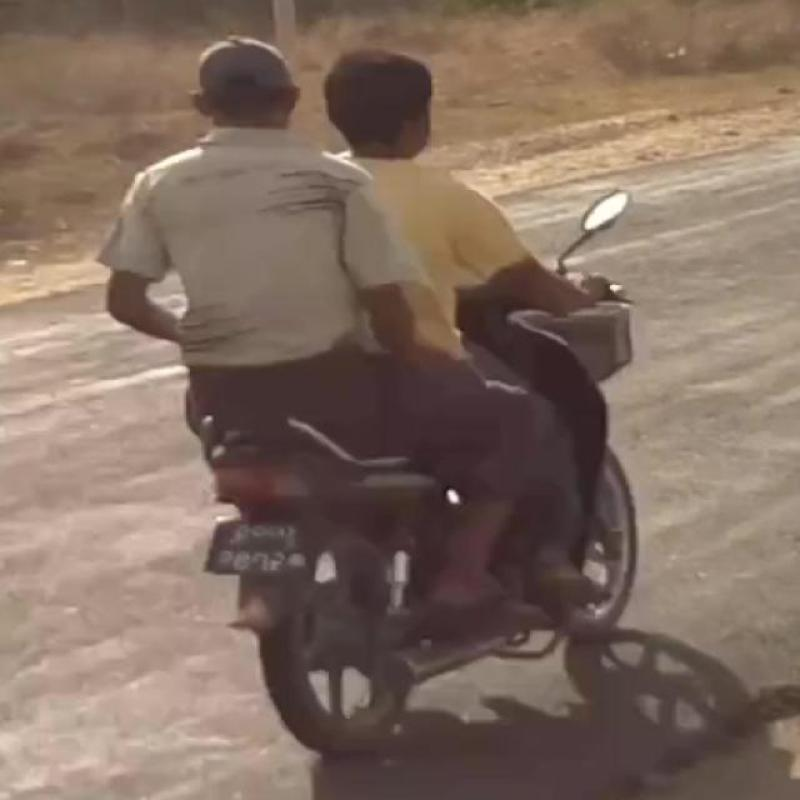nohelmet: (314, 21, 468, 180), (176, 21, 310, 161)
